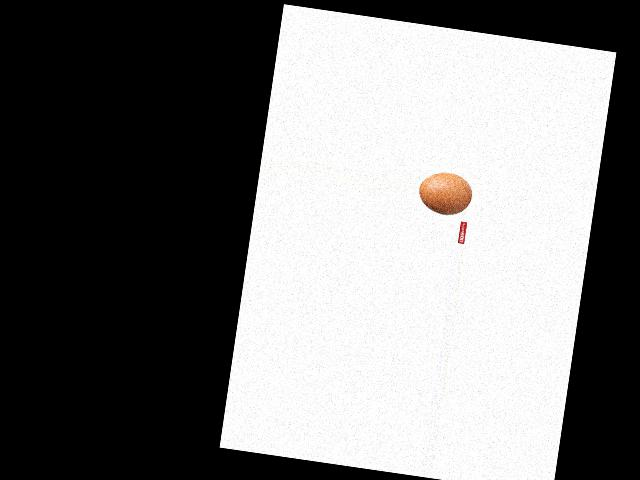egg: (417, 168, 474, 217)
